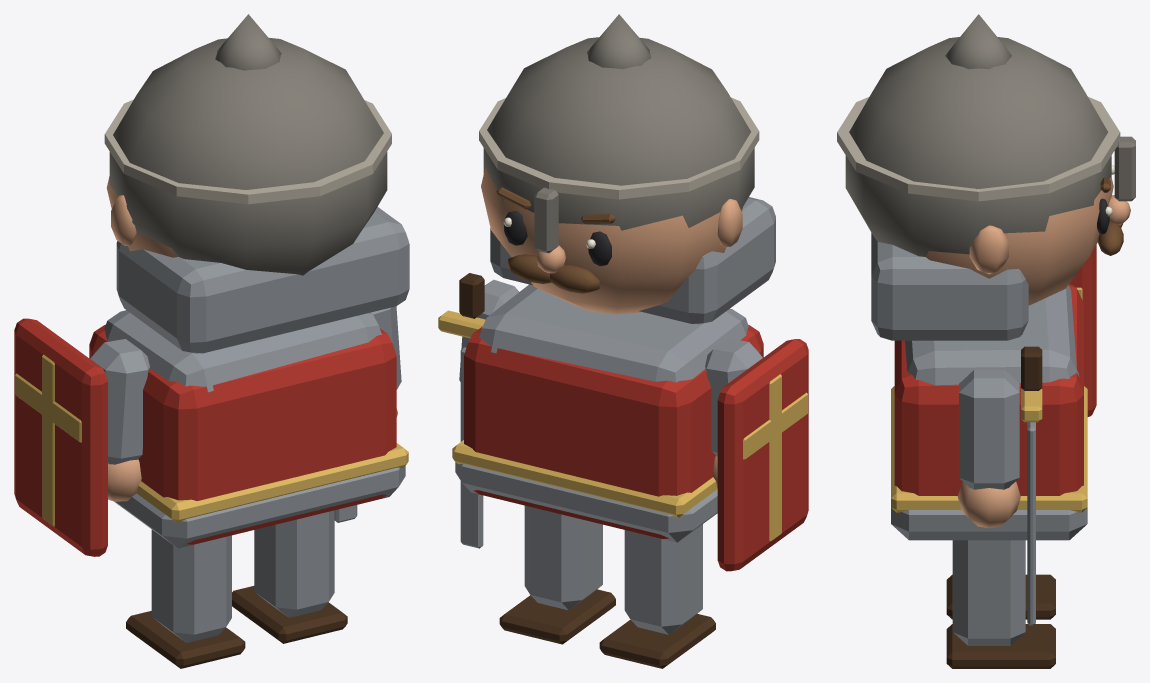
Rendered from manatarms.fbx.
3 views of the same model, side by side, from view 1: azimuth 30°, elevation 25°; view 2: azimuth 150°, elevation 25°; view 3: azimuth 270°, elevation 25° (orthographic). The views are drawn at different scales.
Visible parts, largest first — view 1: Head, Body, Shield, LegL, LegR, ArmL, ArmR; view 2: Head, Body, Shield, LegL, LegR, Weapon, ArmL, ArmR; view 3: Head, Body, LegR, ArmR, Weapon, Shield, LegL.
Boxes of the visible parts, x1,y1,x2,y2 form: Head: (104, 14, 409, 353); Body: (89, 310, 408, 548); Shield: (14, 318, 107, 556); LegL: (126, 529, 245, 668); LegR: (232, 510, 347, 643); ArmL: (90, 339, 149, 501); ArmR: (371, 306, 401, 416); Head: (479, 14, 775, 324); Body: (452, 284, 763, 542); Shield: (717, 339, 808, 571); LegL: (599, 524, 715, 668); LegR: (499, 505, 615, 644); Weapon: (438, 273, 485, 548); ArmL: (705, 338, 762, 487); ArmR: (459, 279, 518, 381); Head: (837, 14, 1135, 340); Body: (891, 284, 1087, 540); LegR: (946, 540, 1055, 668); ArmR: (957, 369, 1020, 528); Weapon: (1021, 346, 1042, 625); Shield: (1069, 244, 1096, 416); LegL: (946, 574, 1055, 619).
Bounding box in the file's own units: 0.5419 × 0.4227 × 0.9621.
